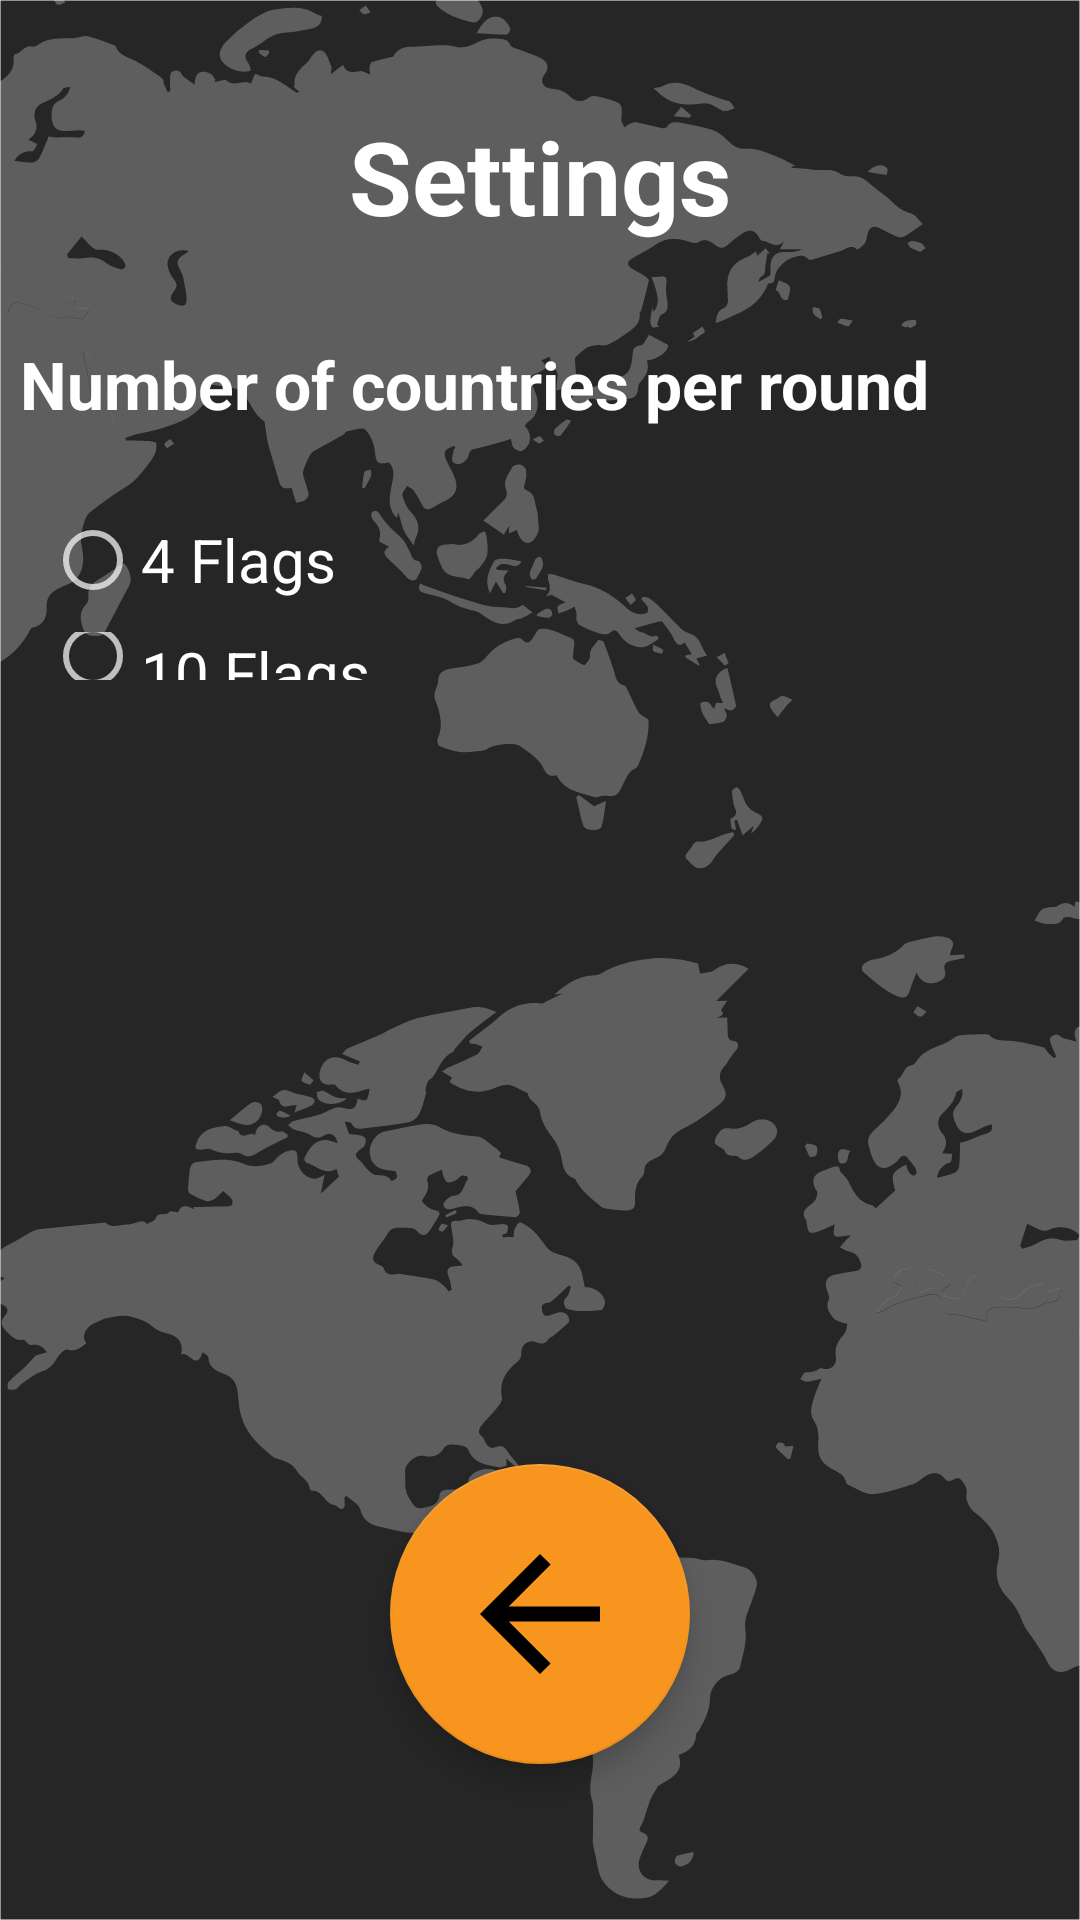

Icon click points for this 1080px×1920px phone screenshot, format (x=x, y=y):
Return to home: (x=540, y=1614)
